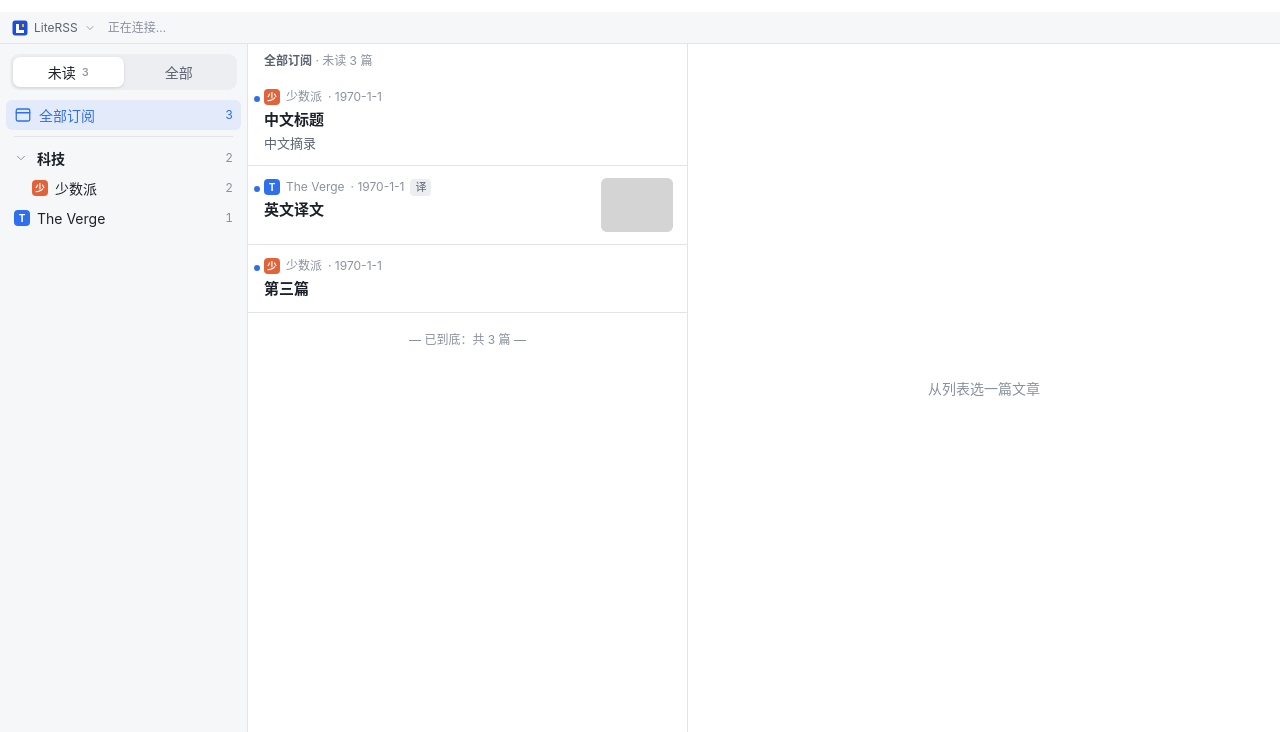
Test case: 侧栏 › 折叠分类隐藏其下的源
Click the button with class "chev-btn": (21, 158) [12, 149, 30, 167]
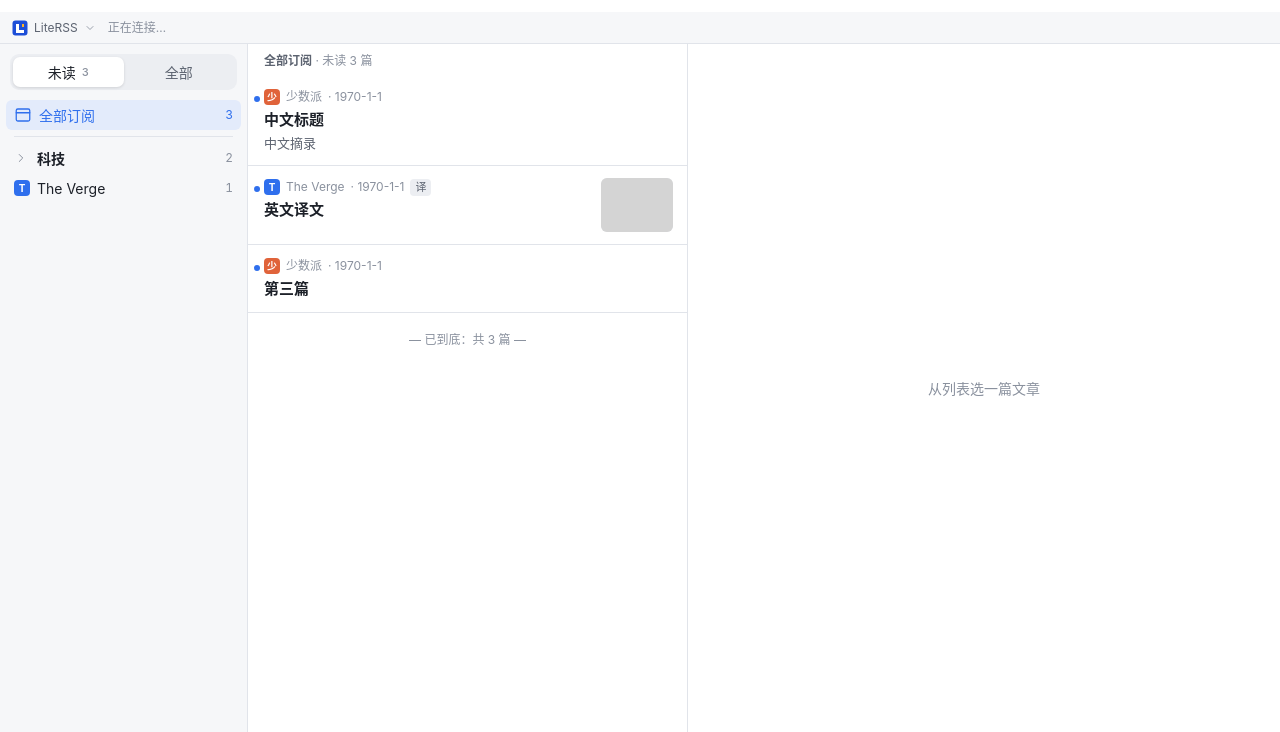
Check: the number of elements with class "node" is 3, box [6, 100, 241, 130]; [6, 143, 241, 173]; [14, 180, 233, 196]
